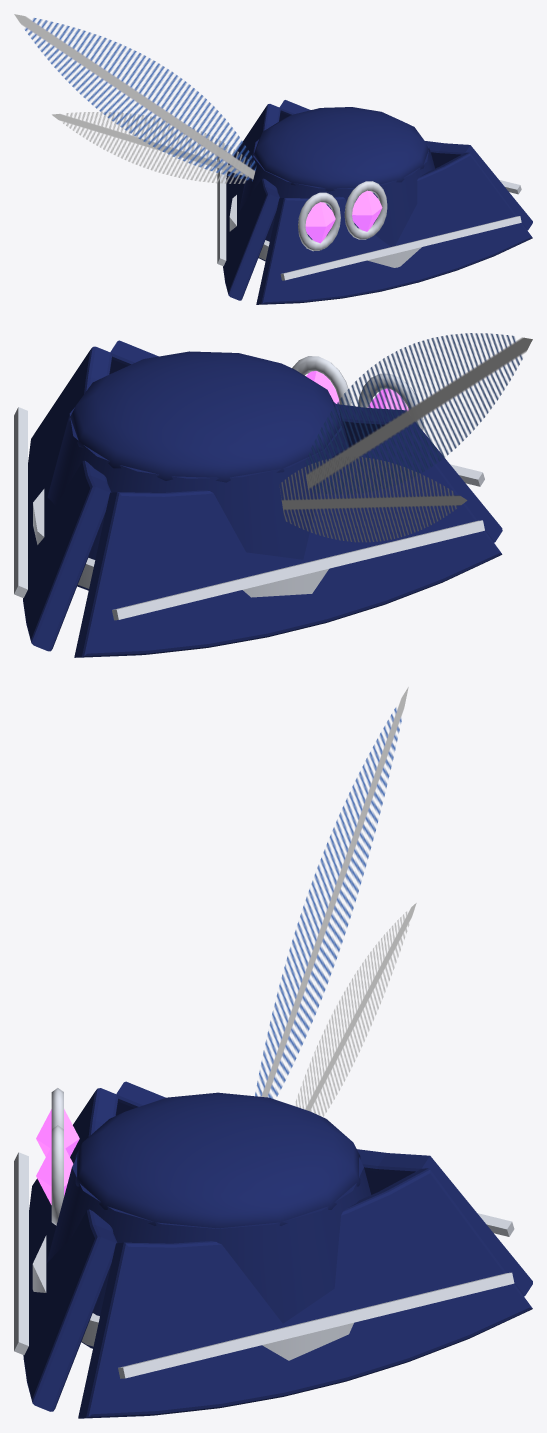
File: hat_eqen2.glb
3 renders of one model, top to bottom at view 1: azimuth 30°, elevation 25°; view 2: azimuth 150°, elevation 25°; view 3: azimuth 270°, elevation 25°, orthographic. The views are drawn at different scales.
Size of the model in its own units: 4.13 by 2.41 by 2.68.
Materials: 5 (2 with a texture image).
